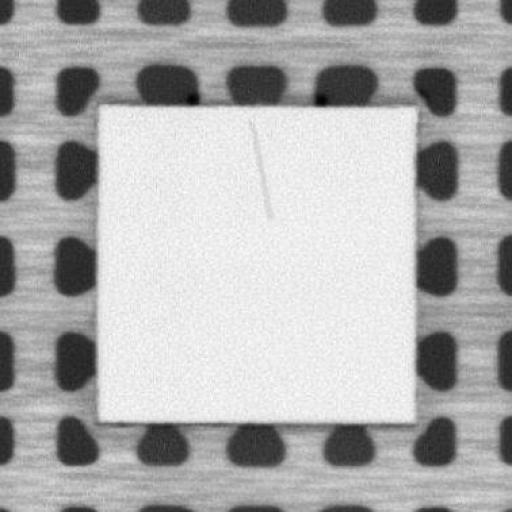DIE_CRACK: (246, 118, 275, 220)
